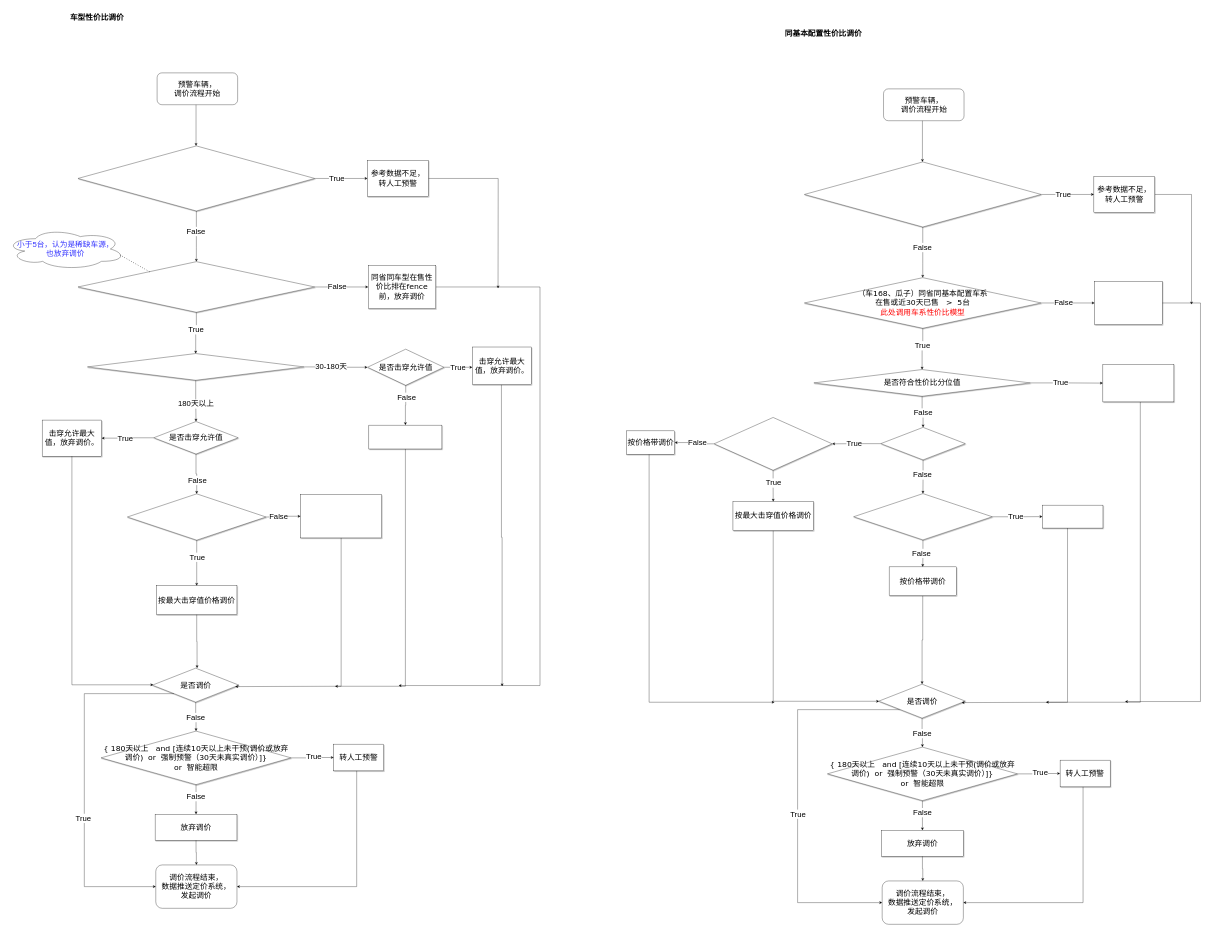
Image size: 1209x930. Some labels were removed from this diagram. Each missing label, with the centre of its shape:
"价格带固定值调价" belongs at point 405,437.
"全域数据(瓜子、车168、会员) 中，同基本配置车系数据量< 50台 or 全域同省同基本配置车系 < 5" belongs at point 923,194.
"全域数据(瓜子、车168、会员) 中，同车型数据量< 50台 or 全域同省同车型 < 5" belongs at point 196,178.
"击穿允许值，不调价" belongs at point 1073,517.
"参考数据不足， 转人工预警" belongs at point 1128,303.
"按价格带调价后 是否击穿允许值 120-180 180以上 不同击穿规则" belongs at point 773,444.
"按价格带调价后是否击穿 允许最大值" belongs at point 923,517.
"按性价比分位数价格调价" belongs at point 341,516.
"是否大于120天" belongs at point 923,444.
"是否大于180天预警" belongs at point 196,367.
"符合性价比分位值，放弃调价。" belongs at point 1138,383.
"调至性价比分位价格后是否击穿 允许最大值" belongs at point 197,517.
"（车168、瓜子）同省同车型在售>5台 and 性价比 > fence 此处调用车型性价比模型" belongs at point 196,287.
